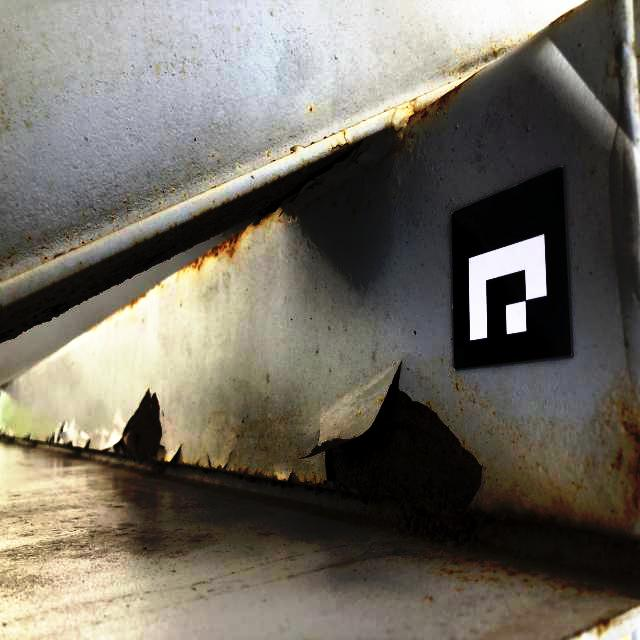Corrosion: (213, 366, 640, 598), (70, 139, 352, 307), (107, 388, 179, 479), (180, 226, 256, 274)
